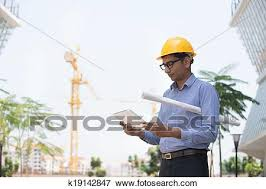Indian_Male: (160, 50, 192, 84)
